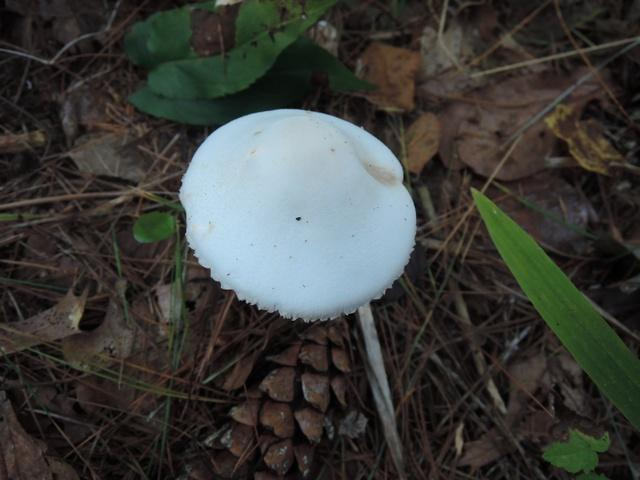Non-edible Mushroom: (177, 106, 419, 476)
